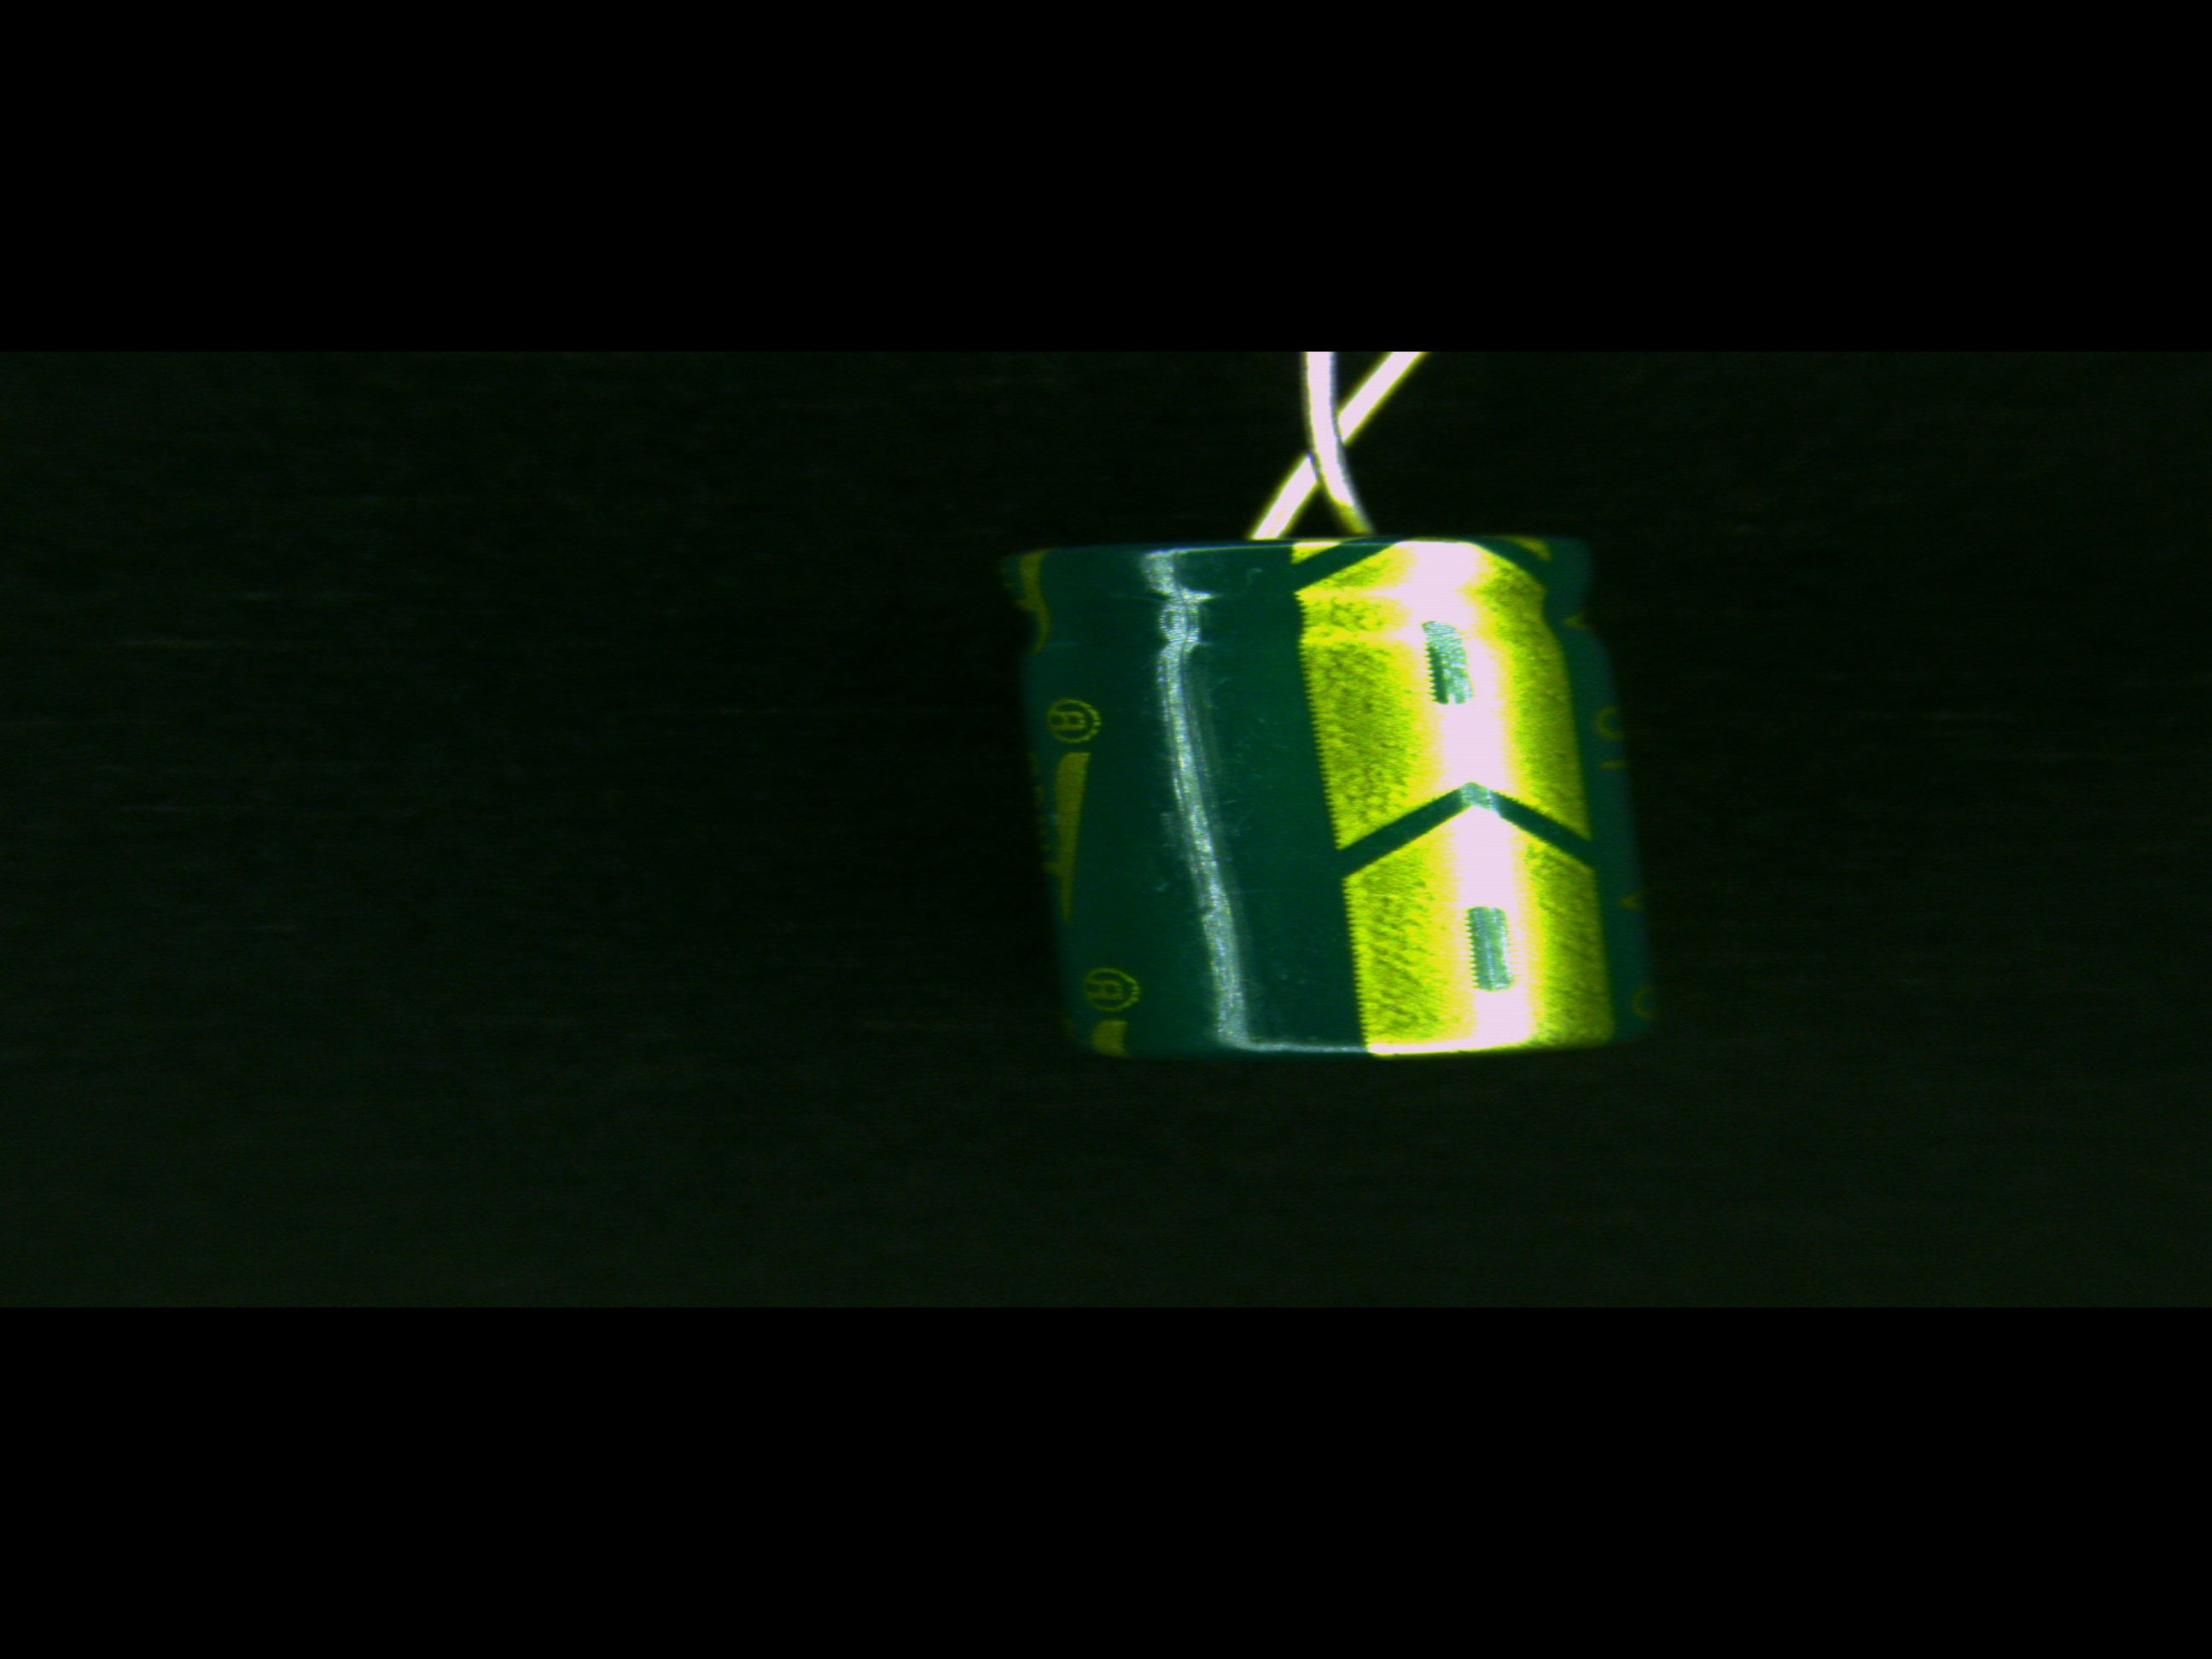c1: (995, 484, 1663, 1061)
